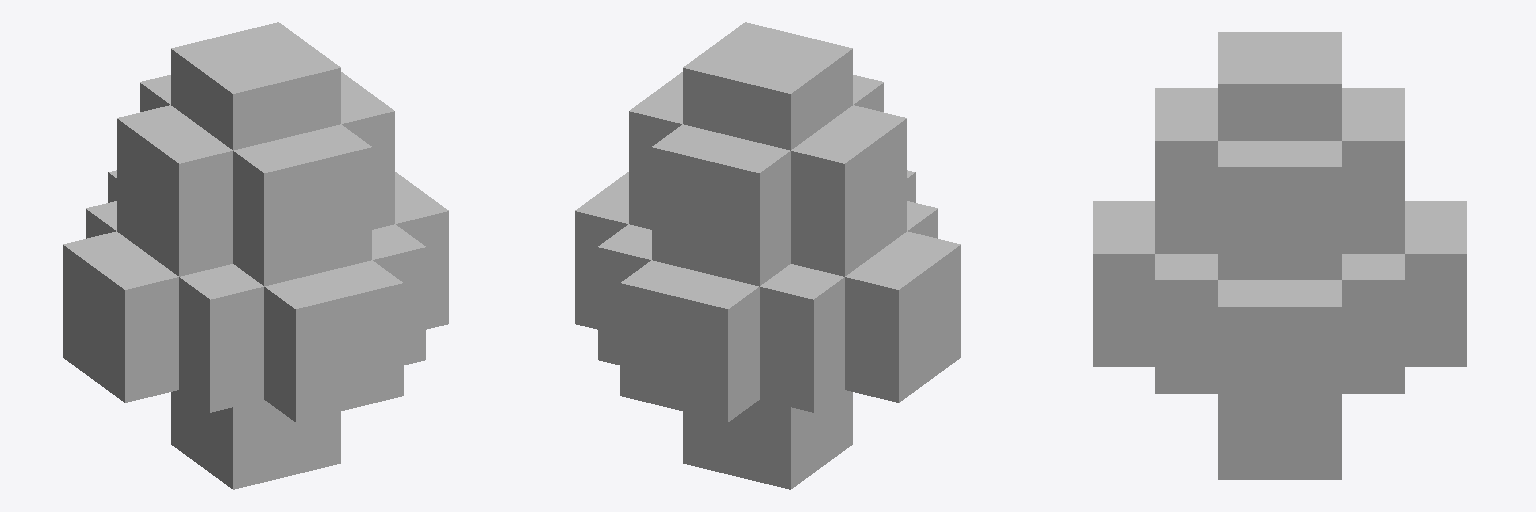
The model's file is Tree.obj.
The picture shows the model from 3 angles: view 1: azimuth 30°, elevation 25°; view 2: azimuth 150°, elevation 25°; view 3: azimuth 270°, elevation 25°; orthographic projection.
Parts seen in each view (by area): view 1: object 1; view 2: object 1; view 3: object 1.
Boxes of the visible parts, x1=… form: object 1: x1=63, y1=22, x2=448, y2=489; object 1: x1=575, y1=22, x2=960, y2=489; object 1: x1=1093, y1=32, x2=1466, y2=479.
Bounding box in the file's own units: 0.6 × 0.7 × 0.6.